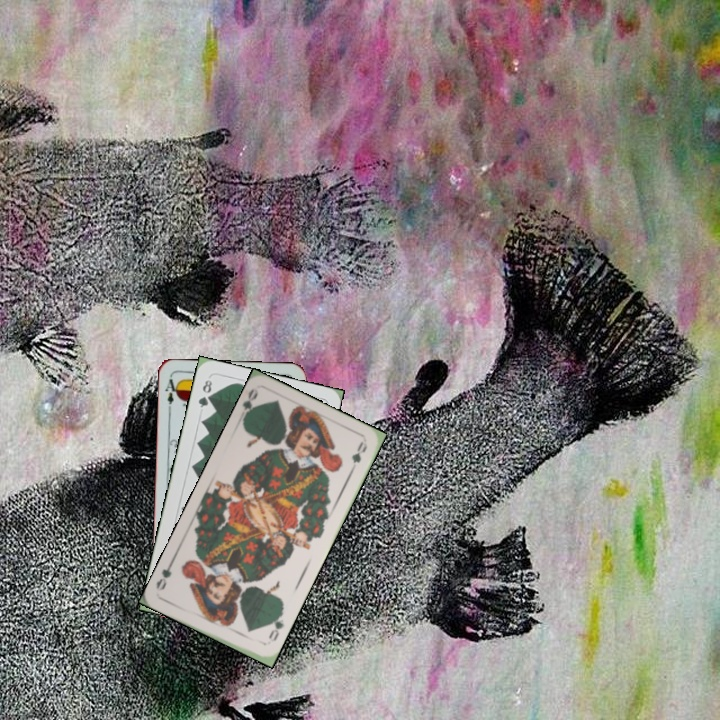EA: (161, 375, 181, 414)
G8: (194, 376, 215, 410)
GO: (238, 385, 261, 425), (264, 610, 286, 644)
